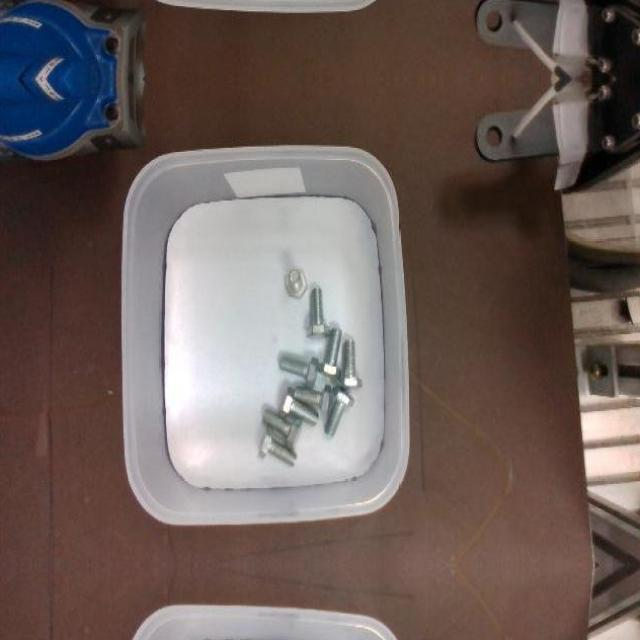screw: (262, 407, 302, 450), (258, 426, 298, 468), (325, 385, 356, 437), (279, 386, 319, 426), (279, 356, 319, 390), (337, 340, 363, 390), (317, 327, 342, 378), (307, 288, 331, 339), (295, 385, 332, 417), (284, 268, 308, 298)
